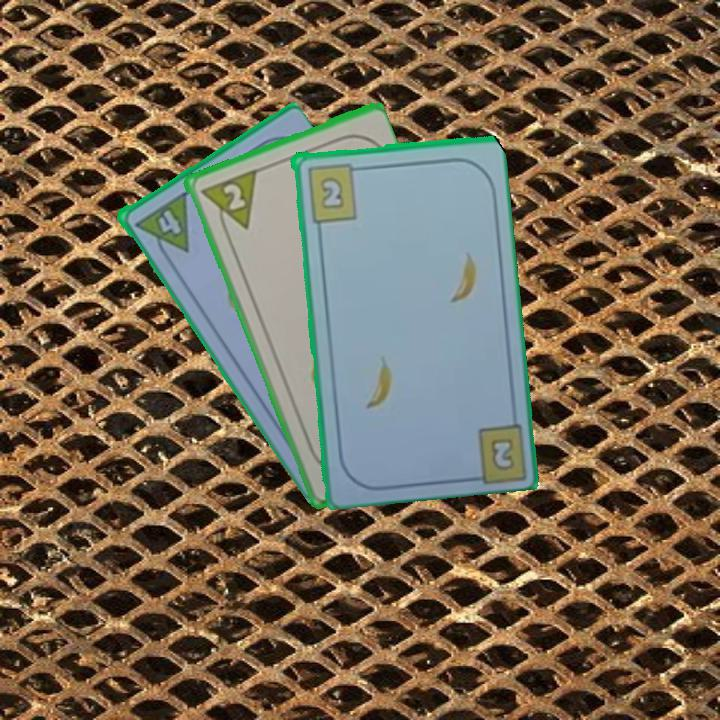2b: (303, 159, 365, 225), (486, 434, 518, 474)
2p: (196, 165, 259, 239)
4p: (130, 188, 192, 265)
